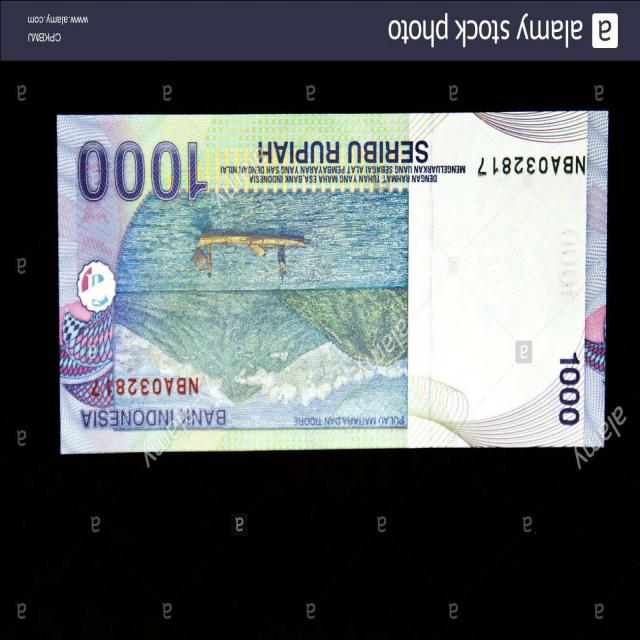1000IndonesianRupiah: (56, 113, 604, 451)
